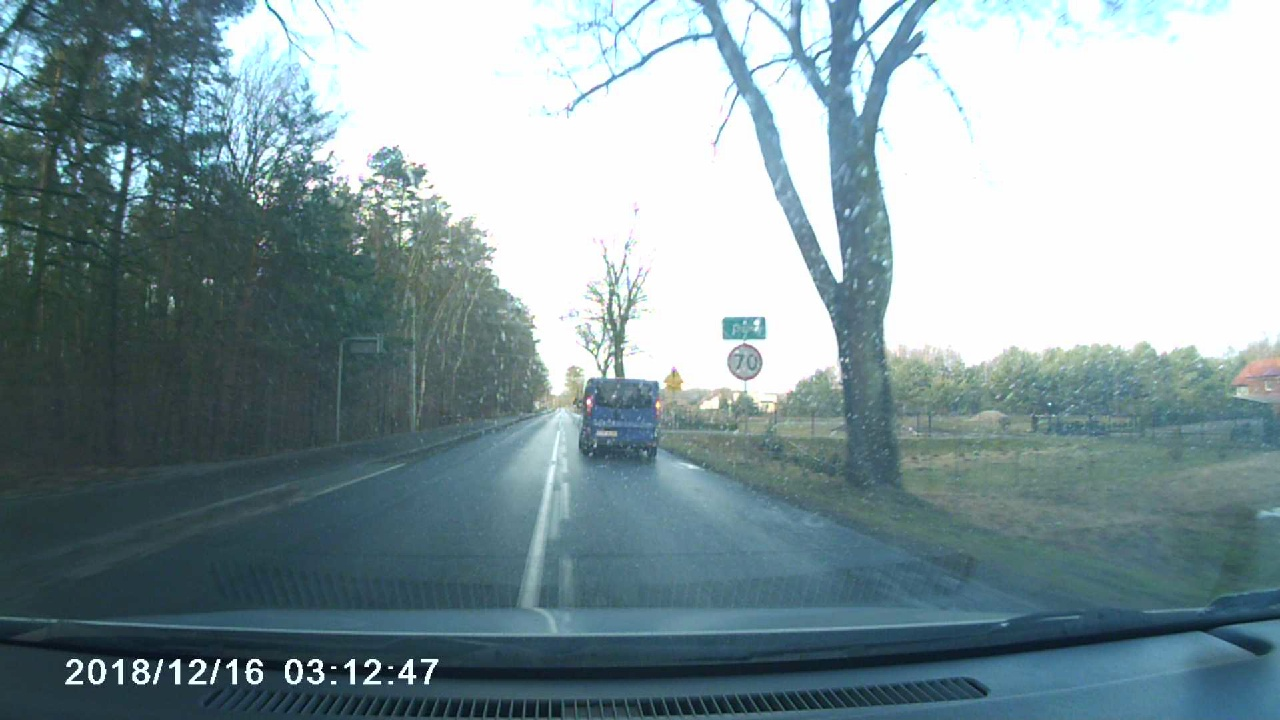B33_70: (728, 343, 762, 382)
